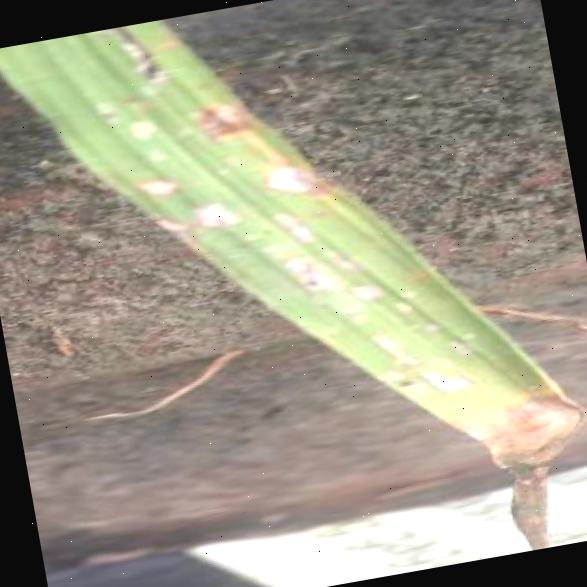Leaf_smut: (176, 75, 258, 157), (257, 138, 349, 207), (176, 179, 266, 249), (113, 153, 178, 214)
